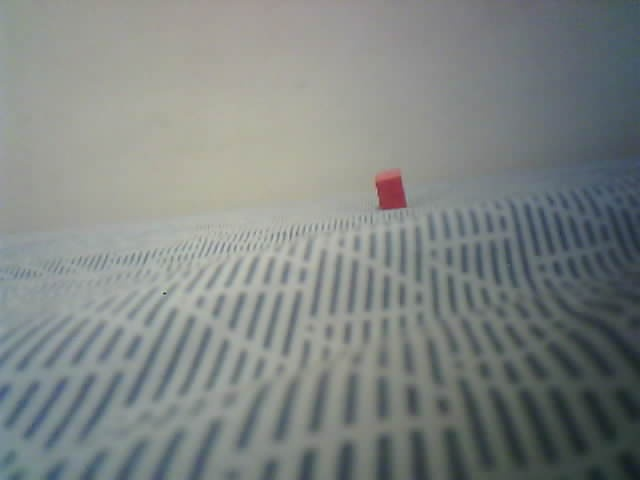lego: (374, 167, 407, 211)
